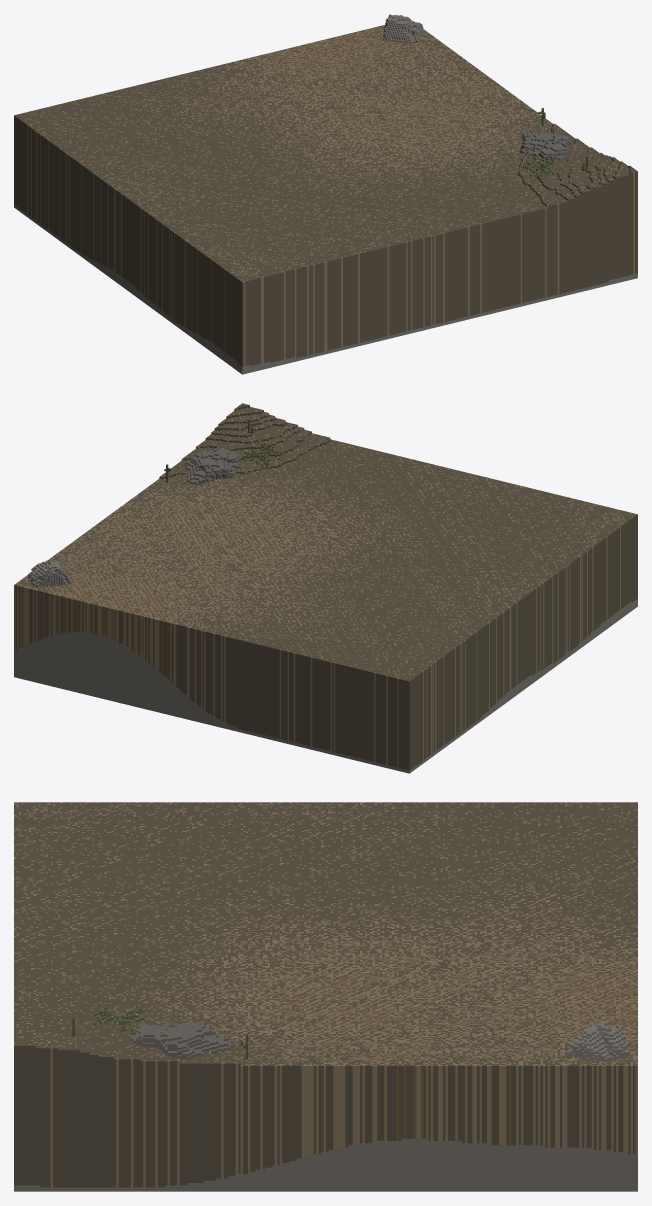
The model's file is Combined Desert(2)-4-tile 5.obj.
3 renders of one model, top to bottom at view 1: azimuth 30°, elevation 25°; view 2: azimuth 150°, elevation 25°; view 3: azimuth 270°, elevation 25°, orthographic. The views are drawn at different scales.
Parts seen in each view (by area): view 1: tile 5; view 2: tile 5; view 3: tile 5.
Boxes of the visible parts, x1,y1,x2,y2 form: tile 5: [14, 14, 637, 374]; tile 5: [14, 403, 637, 773]; tile 5: [14, 802, 637, 1191].
Size of the model in its own units: 25.6 by 7 by 25.6.
1 material, 1 textured.
